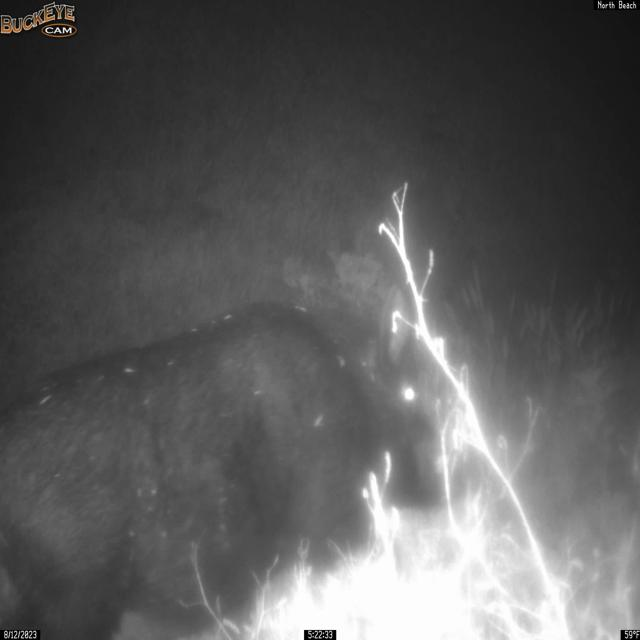pig: (0, 298, 432, 640)
